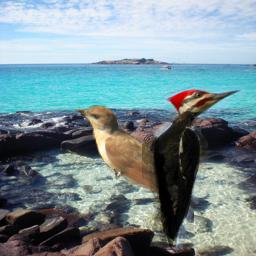Cuckoo: (75, 105, 194, 223)
Woodpecker: (142, 86, 246, 250)
